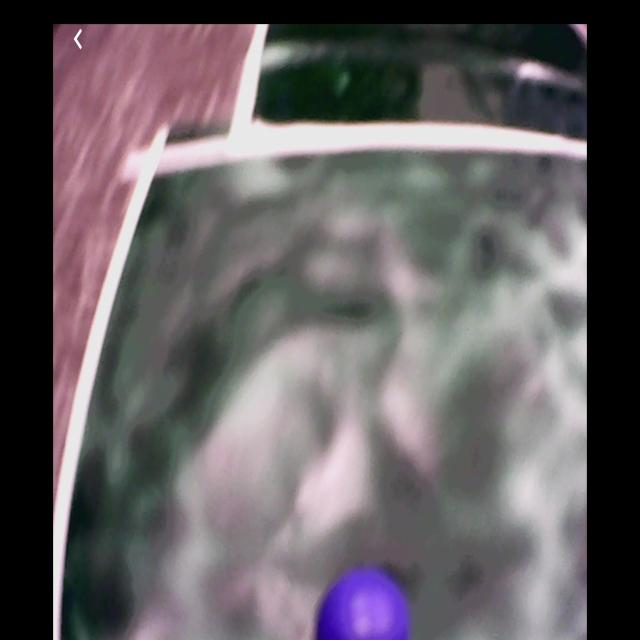ball: (314, 568, 414, 640)
